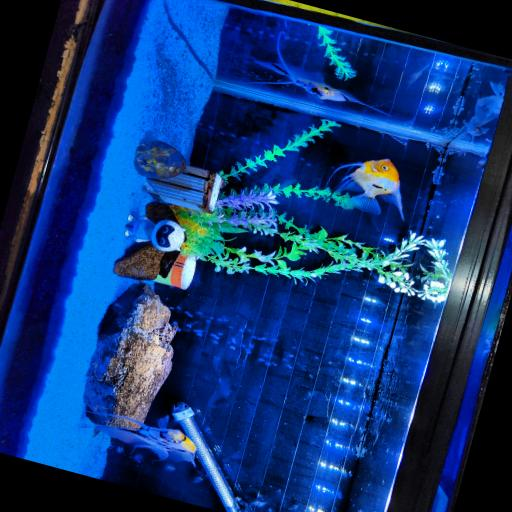Fish: (246, 32, 386, 115), (89, 414, 195, 465), (333, 159, 403, 219), (463, 82, 504, 136), (404, 63, 430, 90)
